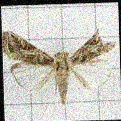Spodoptera litura: (2, 28, 117, 105)
